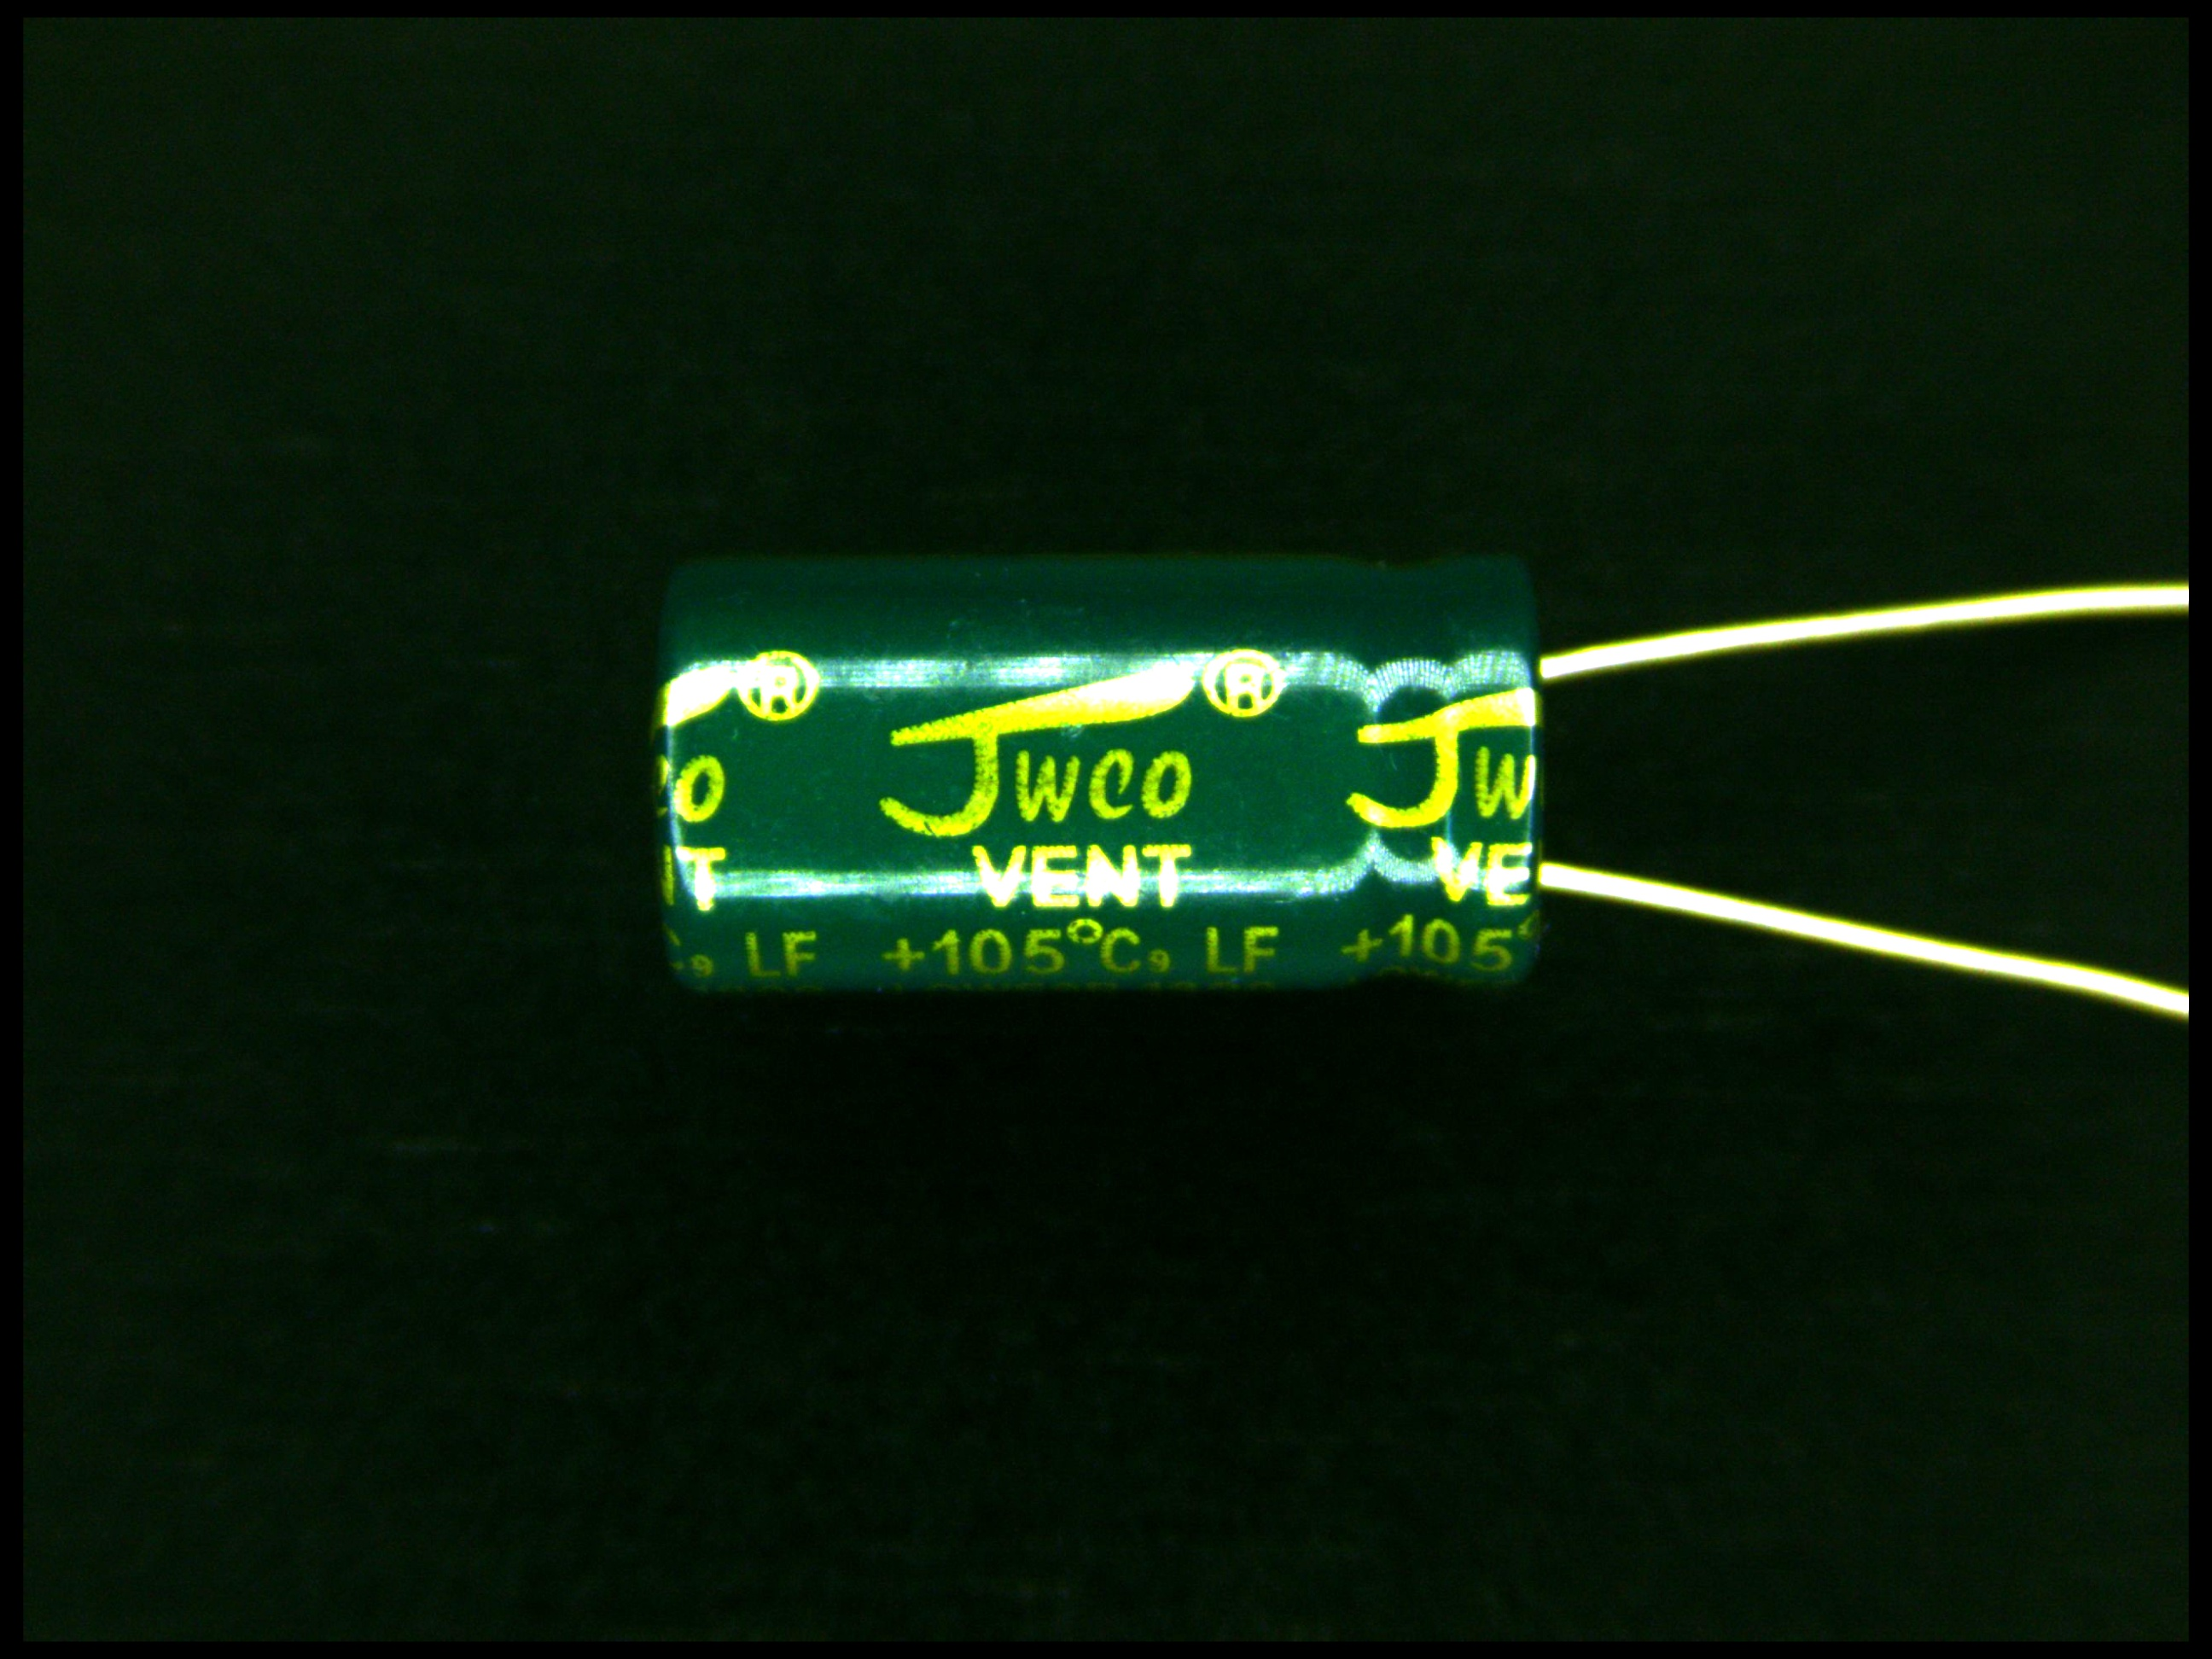c1: (650, 552, 1679, 999)
